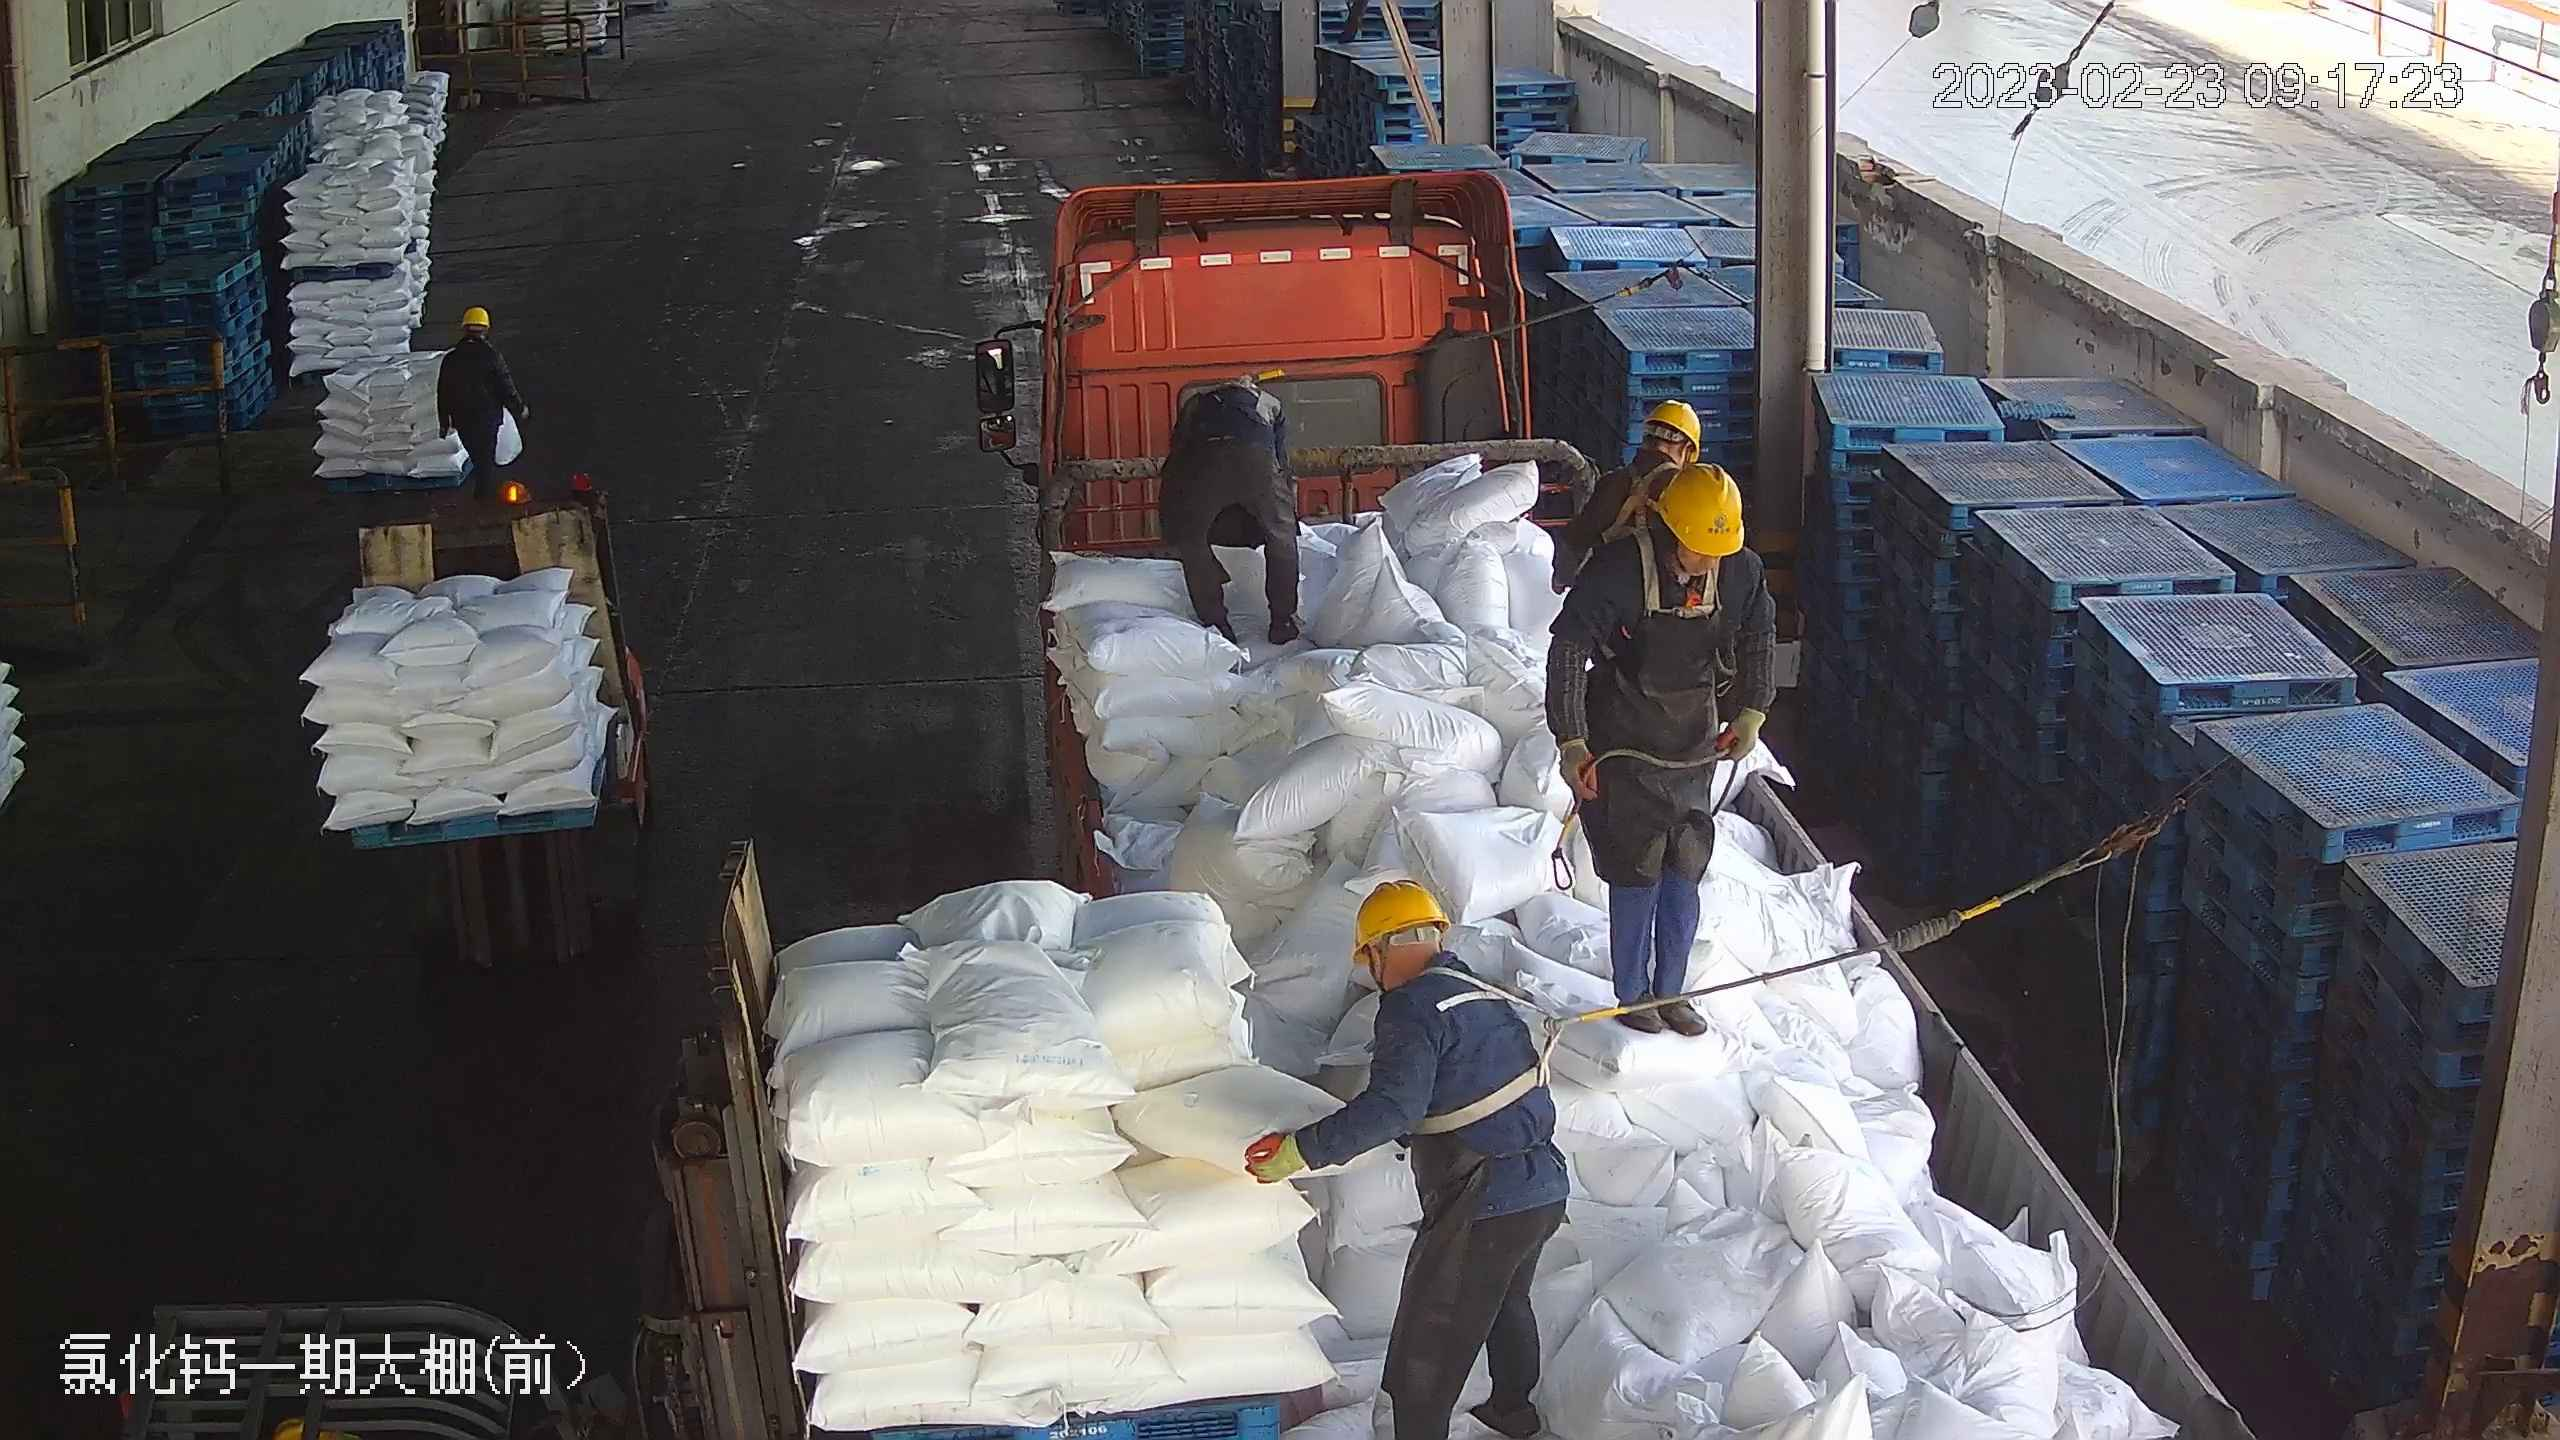belt: (1404, 970, 1624, 1125), (1630, 535, 1726, 619), (1600, 449, 1679, 544), (1192, 379, 1273, 433)
head: (1329, 879, 1524, 1071), (1594, 460, 1765, 618), (1599, 396, 1707, 497), (441, 304, 507, 371)
helmet: (1656, 460, 1749, 556), (1345, 879, 1451, 957), (1641, 394, 1706, 455), (457, 304, 492, 328)
people: (1256, 876, 1570, 1435), (1553, 465, 1772, 1039), (1151, 371, 1309, 655), (435, 302, 526, 501)
truck: (986, 160, 2279, 1440)
